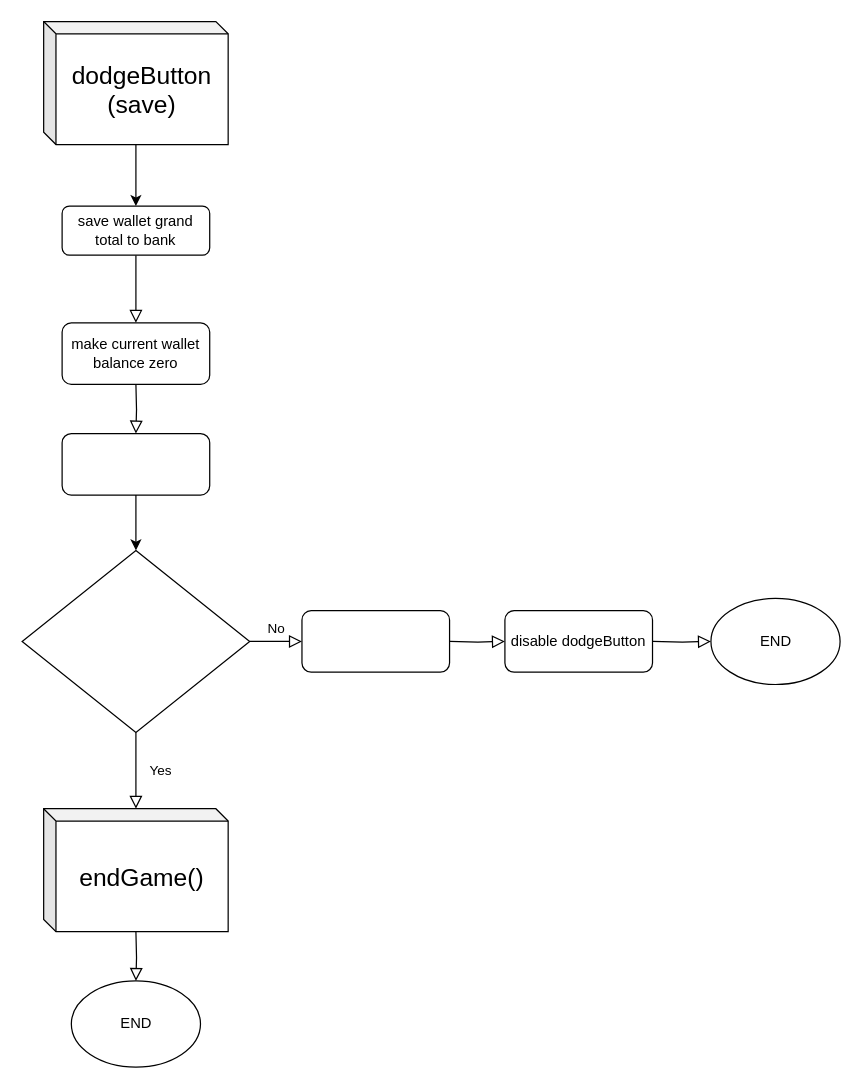
This 861x1089 diagram has some shape labels left out. The shapes that lost their labels are listed below. From the top down, each one's centre as x and y in pixels, then its label:
At point (135, 463): "updateNumbers()".
At point (135, 640): "end of game? BankBalance>=EndScore?".
At point (375, 640): "calculateTurns()".
